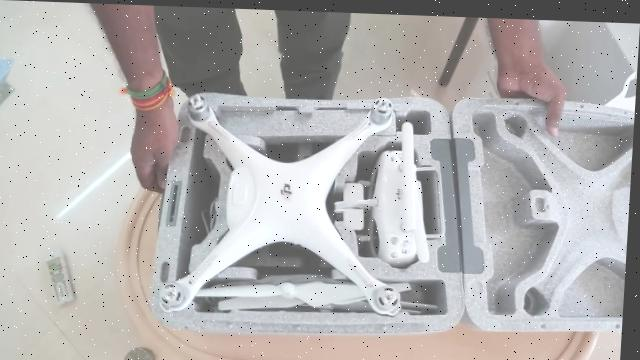drone: (149, 74, 429, 327)
